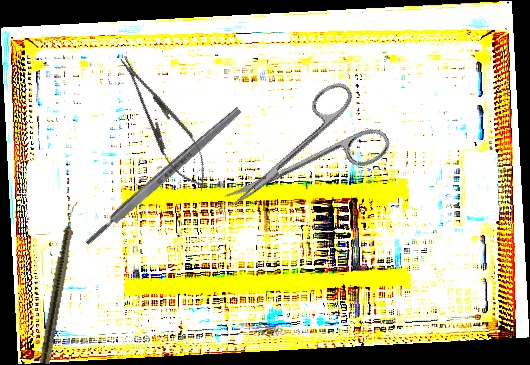Handpiece: (38, 200, 81, 365)
Iris Scissors: (203, 73, 395, 238)
Needle Holder: (106, 46, 222, 199)
Scalpel Handle: (82, 105, 244, 248)
